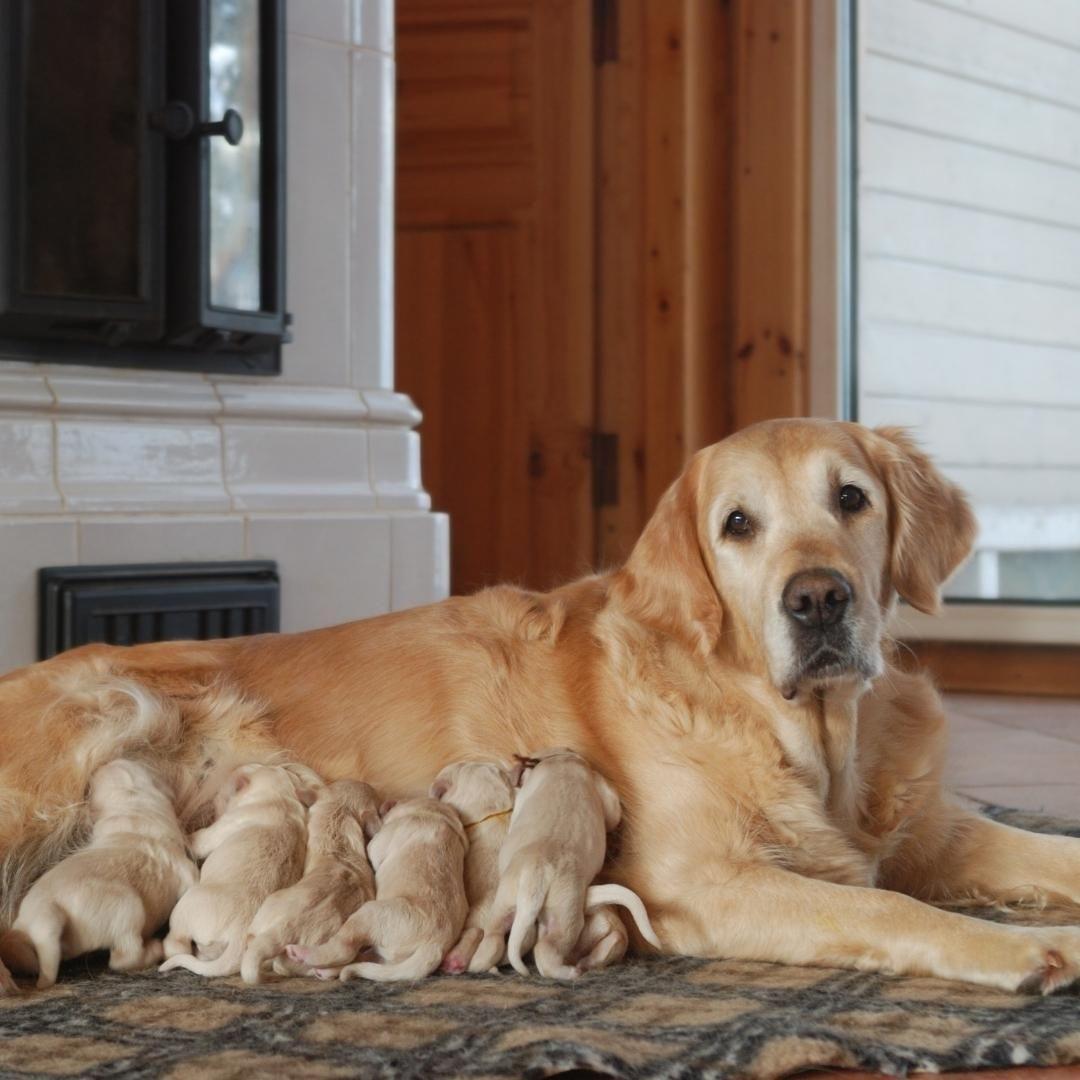adult_dog: (0, 413, 1080, 1002)
puppy-dog: (9, 756, 199, 989), (473, 748, 627, 983), (283, 794, 471, 985), (161, 761, 319, 980), (238, 779, 388, 986), (428, 760, 516, 976)
